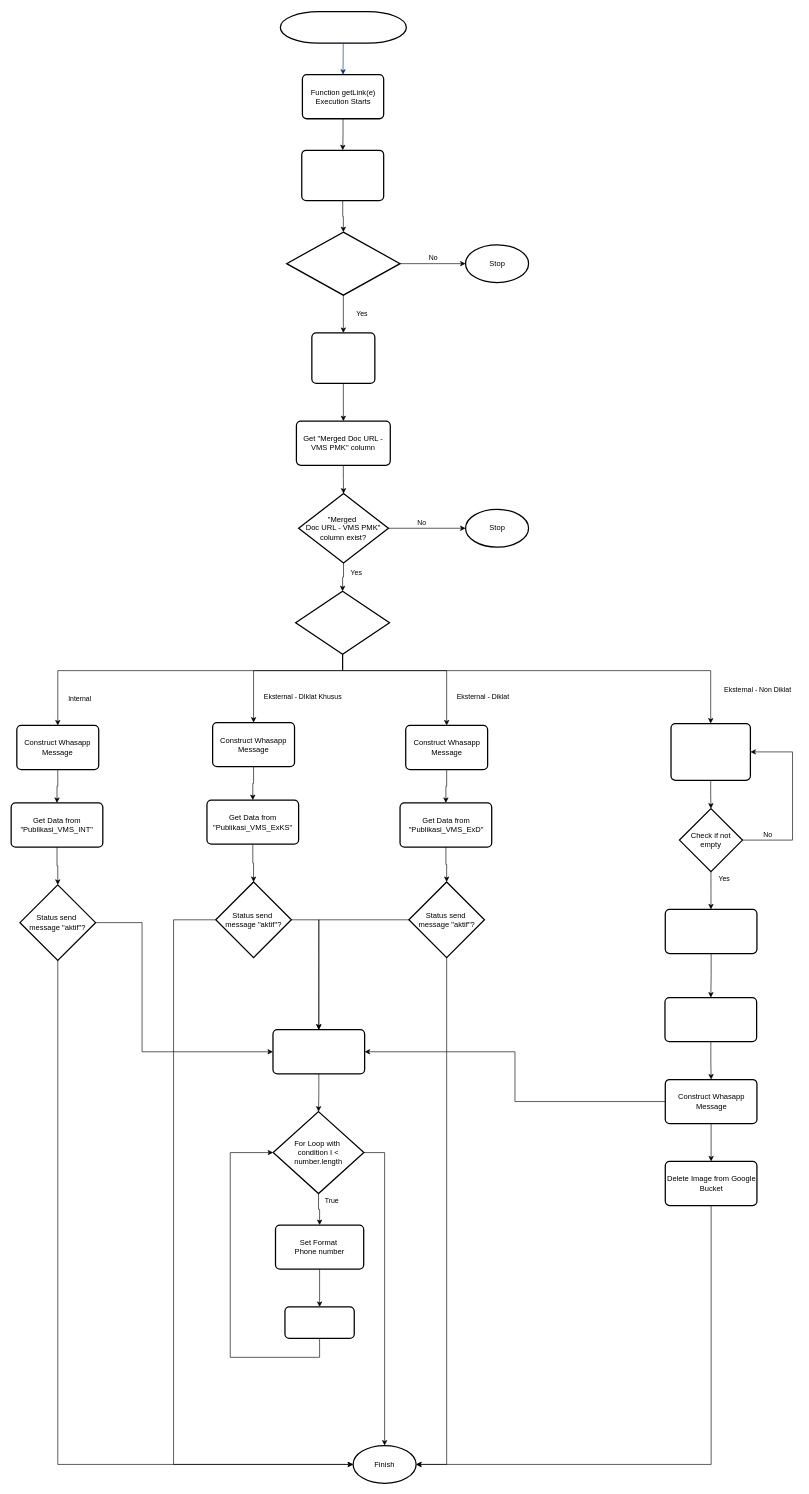
This 809x1494 diagram has some shape labels left out. Here are the shapes that lost their labels. From the top down, the box of each, then its label:
(279, 11, 407, 43): Form Submission (onFormSubmit Trigger)
(301, 149, 384, 201): Get Sheet name from event object (e)
(286, 231, 400, 295): Is Sheet Name "ivmsCHECKINFORM"?
(311, 332, 375, 384): Get Form Data (e.values)
(295, 590, 390, 655): Jenis Pengunjung (FormData[1])
(670, 723, 751, 781): get PDF url from spreadsheet column
(664, 908, 757, 954): Extract File ID from picture link
(664, 997, 757, 1042): Upload Image To Google Bucket
(272, 1029, 365, 1074): Call SenderMessage
(284, 1306, 355, 1339): Send the message
